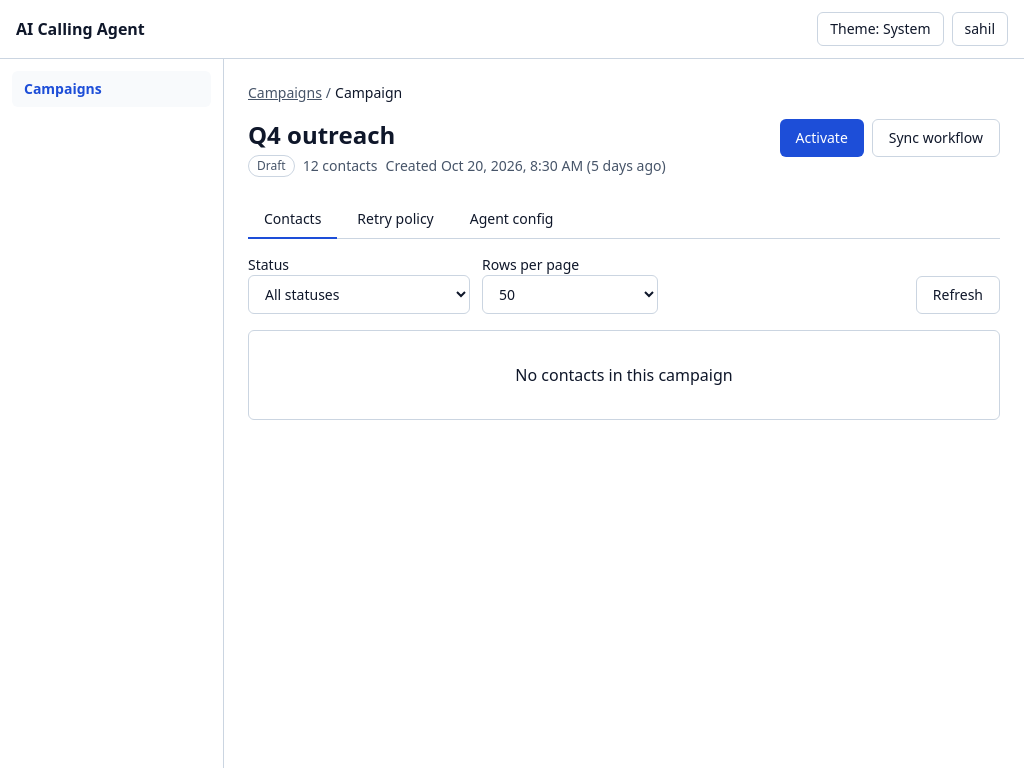
Test: the status filter offers all nine statuses and is sent as ?status=
Select "Retry scheduled" in the dropdown labelled "Status" at (359, 294), box [248,275,470,314]
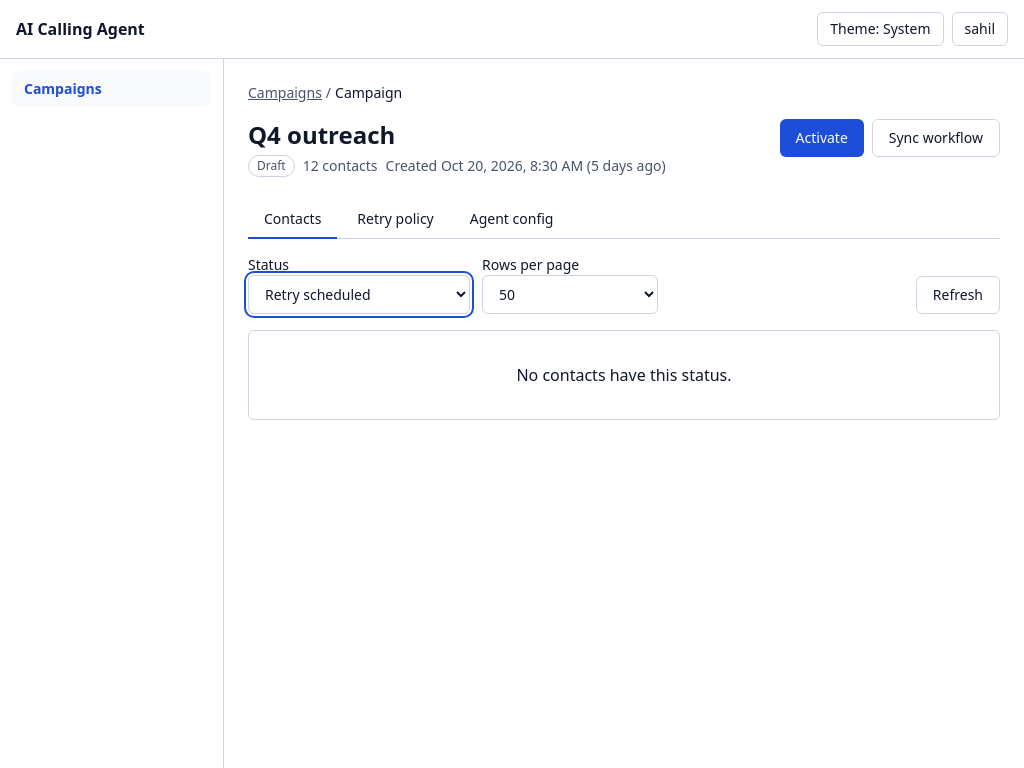
Expected: the text "No contacts have this status." is shown, [516,364,732,386]
